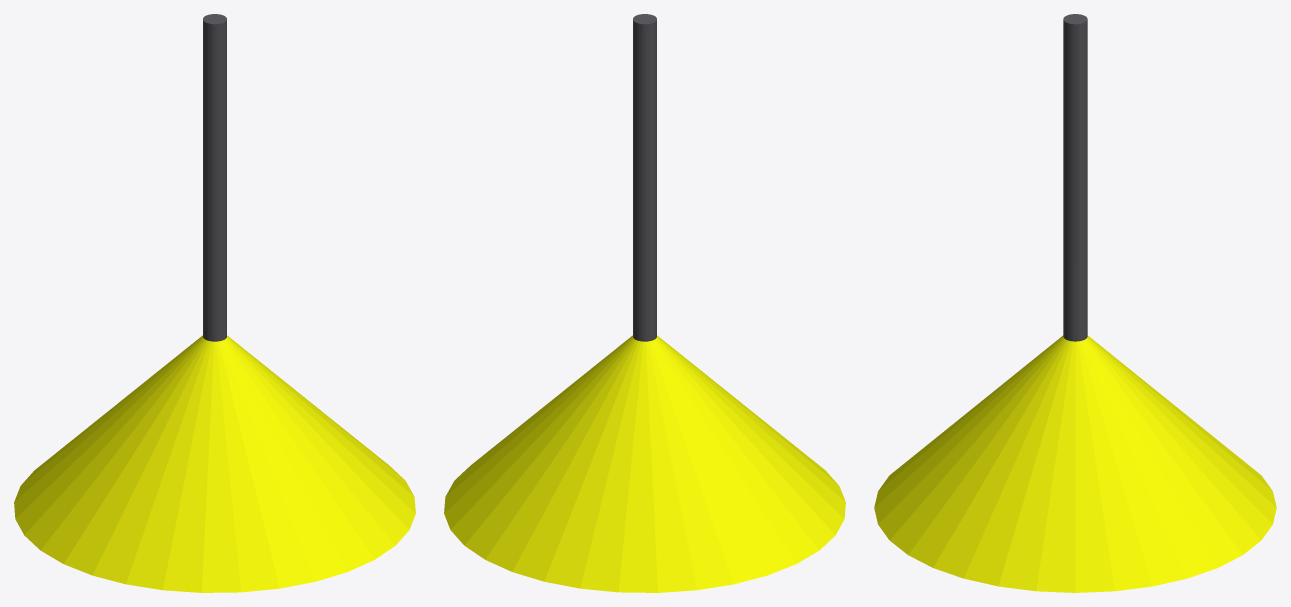
Rendered from ceilingLight.fbx.
The picture shows the model from 3 angles, left to right: view 1: azimuth 30°, elevation 25°; view 2: azimuth 150°, elevation 25°; view 3: azimuth 270°, elevation 25°; orthographic projection.
Parts seen in each view (by area): view 1: Cone, Cylinder; view 2: Cone, Cylinder; view 3: Cone, Cylinder.
Part boxes in pixels (left/top/right/bottom): Cone: left=14, top=335, right=415, bottom=592; Cylinder: left=203, top=14, right=226, bottom=341; Cone: left=444, top=335, right=845, bottom=592; Cylinder: left=633, top=14, right=656, bottom=341; Cone: left=874, top=335, right=1276, bottom=592; Cylinder: left=1063, top=14, right=1087, bottom=341.
Size of the model in its own units: 400 by 536 by 400.
